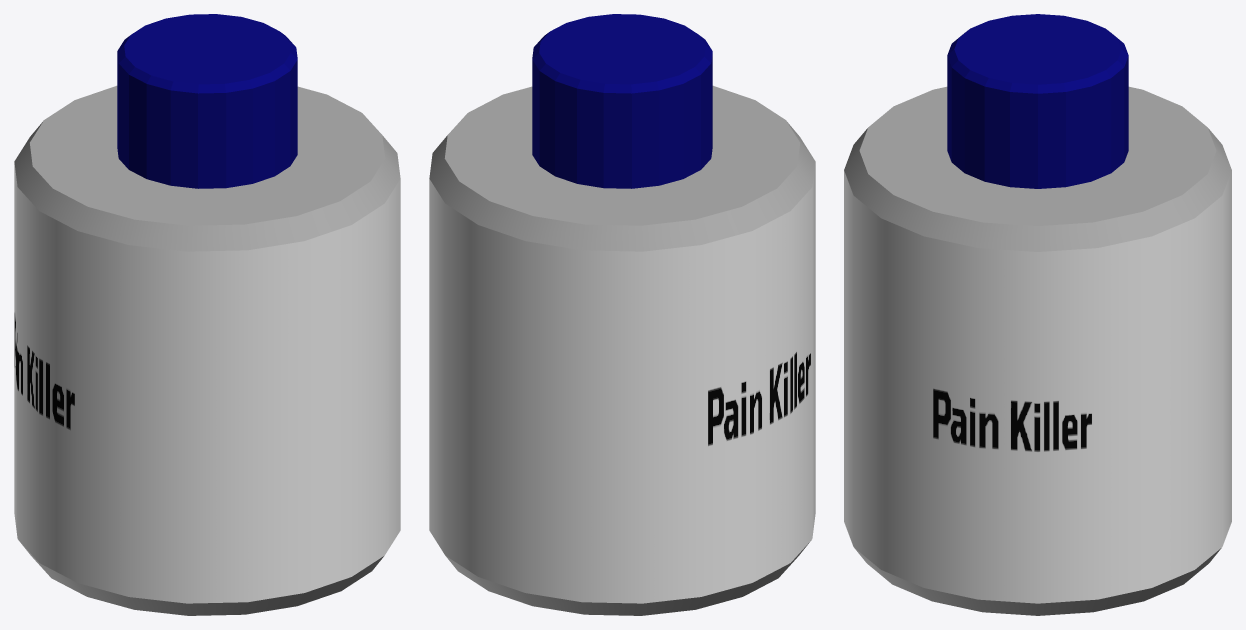
The model's file is PainKiller.fbx.
3 renders of one model, left to right at view 1: azimuth 30°, elevation 25°; view 2: azimuth 150°, elevation 25°; view 3: azimuth 270°, elevation 25°, orthographic.
Visible parts, largest first — view 1: pCylinder1; view 2: pCylinder1; view 3: pCylinder1.
Boxes of the visible parts, box(x1,y1,x2,y2) form: pCylinder1: box(14, 14, 400, 615); pCylinder1: box(429, 14, 815, 615); pCylinder1: box(844, 14, 1231, 615).
Size of the model in its own units: 2 by 2.79 by 2.
